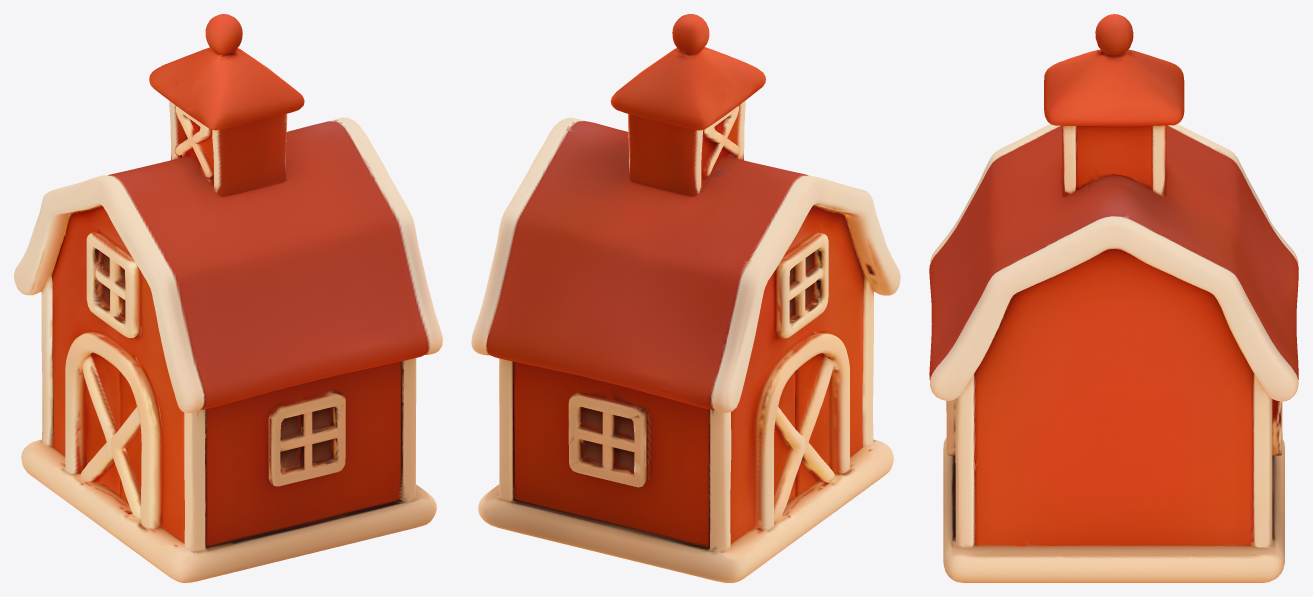
Rendered from Granero1.fbx.
3 views of the same model, side by side, from view 1: azimuth 30°, elevation 25°; view 2: azimuth 150°, elevation 25°; view 3: azimuth 270°, elevation 25° (orthographic). The views are drawn at different scales.
Parts seen in each view (by area): view 1: Granero; view 2: Granero; view 3: Granero.
Part boxes in pixels (<box>): Granero: <box>14,14,442,582</box>; Granero: <box>471,14,900,582</box>; Granero: <box>929,14,1298,582</box>.
Size of the model in its own units: 285 by 497 by 332.
